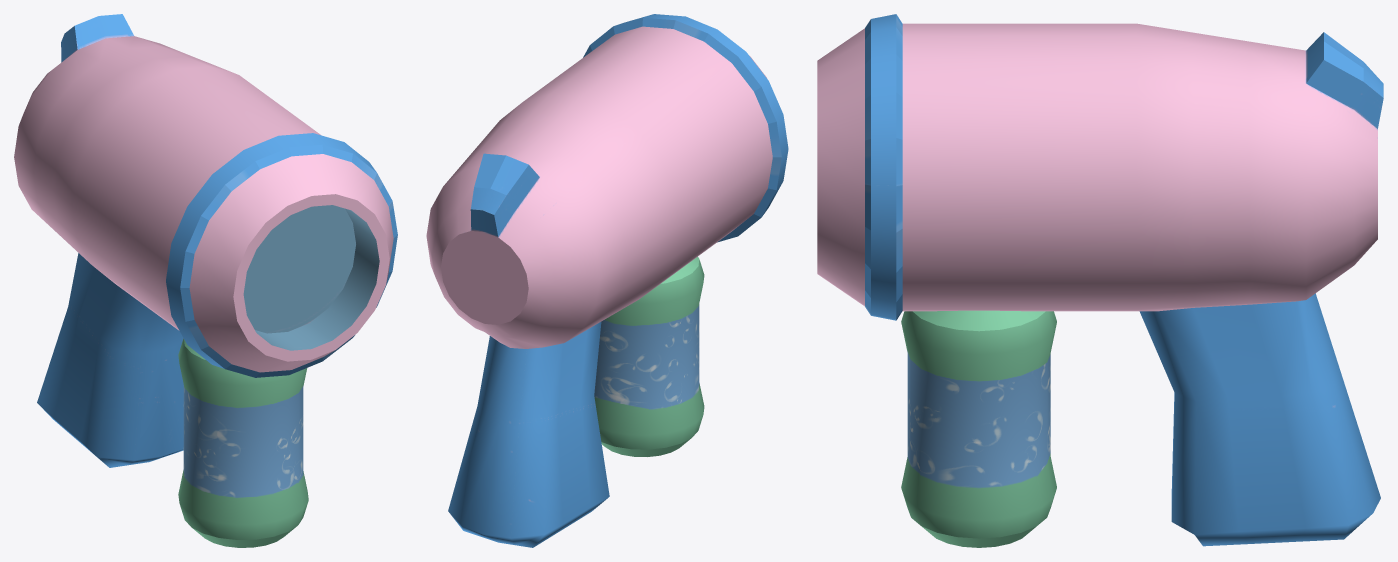
Rendered from gun.fbx.
3 views of the same model, side by side, from view 1: azimuth 30°, elevation 25°; view 2: azimuth 150°, elevation 25°; view 3: azimuth 270°, elevation 25° (orthographic). The views are drawn at different scales.
Parts seen in each view (by area): view 1: gun:gun; view 2: gun:gun; view 3: gun:gun.
Boxes of the visible parts, x1,y1,x2,y2 form: gun:gun: (14, 14, 397, 547); gun:gun: (426, 14, 788, 547); gun:gun: (817, 14, 1383, 547).
Bounding box in the file's own units: 4.85 × 8.66 × 8.89.
1 material, 1 textured.
